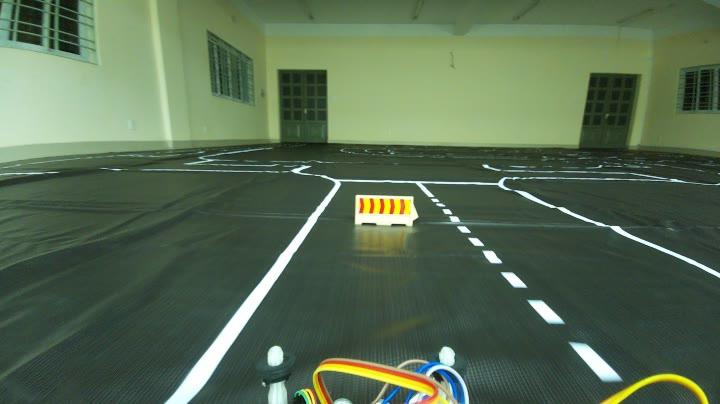roadblock: (351, 190, 423, 233)
